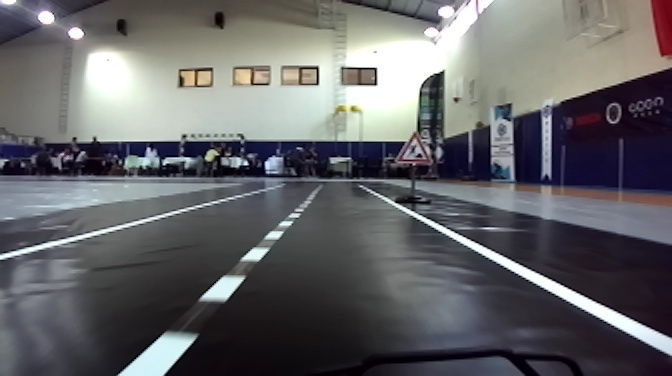yol_yapimi: (390, 130, 434, 170)
